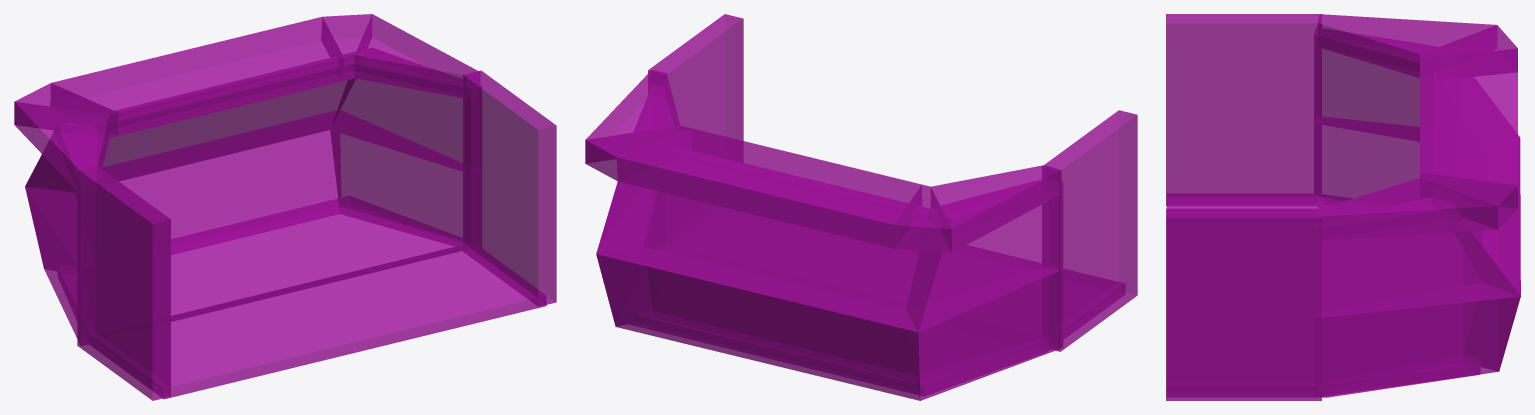
Rendered from SM_Bld_Cockpit_01_Collision.fbx.
The picture shows the model from 3 angles, left to right: view 1: azimuth 30°, elevation 25°; view 2: azimuth 150°, elevation 25°; view 3: azimuth 270°, elevation 25°; orthographic projection. The views are drawn at different scales.
Parts seen in each view (by area): view 1: SM_Bld_Cockpit_01_Collision; view 2: SM_Bld_Cockpit_01_Collision; view 3: SM_Bld_Cockpit_01_Collision.
Boxes of the visible parts, x1,y1,x2,y2 form: SM_Bld_Cockpit_01_Collision: (14, 14, 556, 400); SM_Bld_Cockpit_01_Collision: (585, 14, 1137, 400); SM_Bld_Cockpit_01_Collision: (1166, 14, 1520, 400).
Size of the model in its own units: 787 by 333 by 579.
